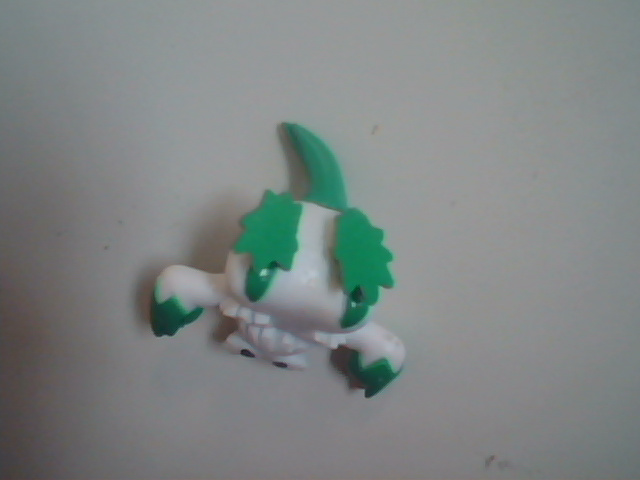abomasnow: (124, 95, 493, 433)
